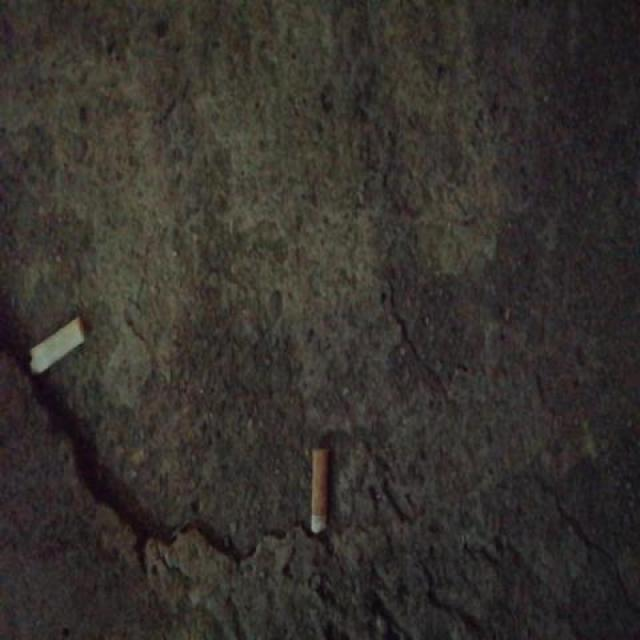non-organic waste: (23, 309, 89, 380), (307, 445, 333, 538)
